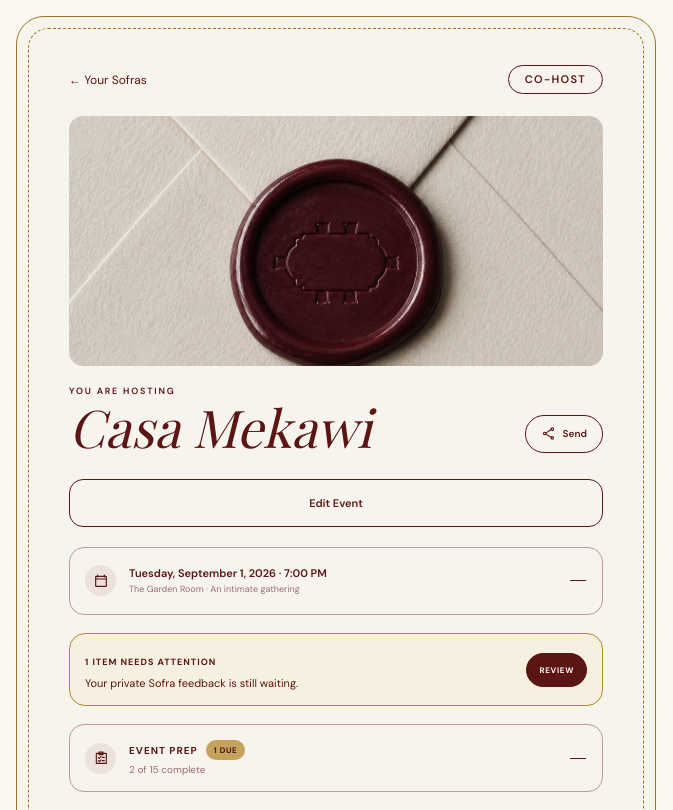
Test: Copy invite link button › keeps co-host sharing choices collapsed until the host asks for them
Expected: the button "copy co-host link" is not shown
Click the button "CO-HOST".
click(555, 80)  # box [508,65,603,94]
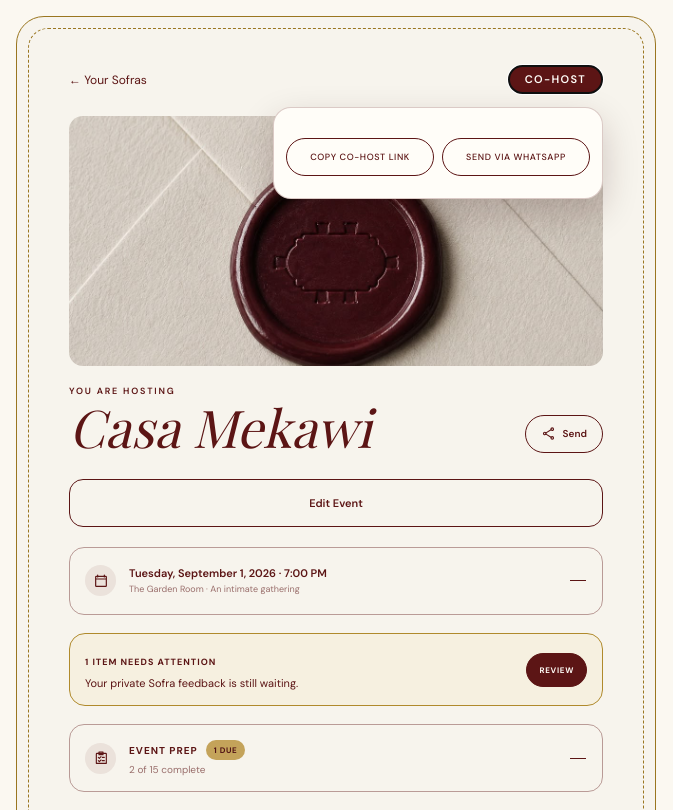
Result: the button "COPY CO-HOST LINK" is shown at [286,138,434,176]
Result: the button "SEND VIA WHATSAPP" is shown at [442,138,590,176]
